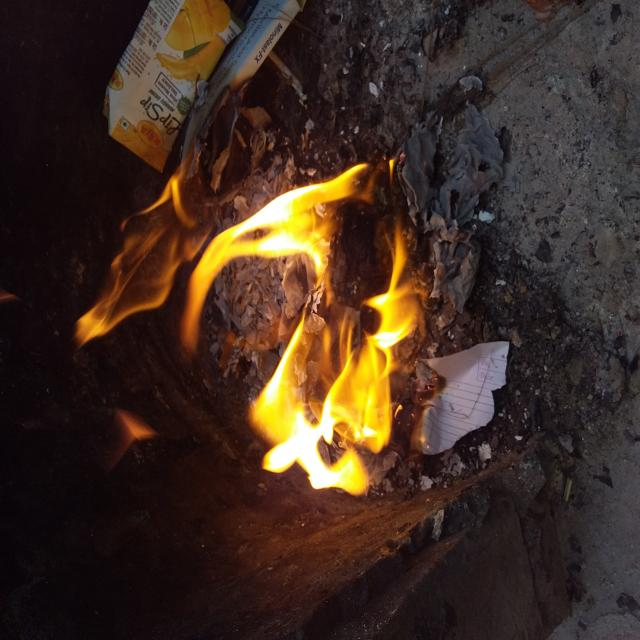Fire: (108, 242, 355, 570), (216, 98, 355, 260)
